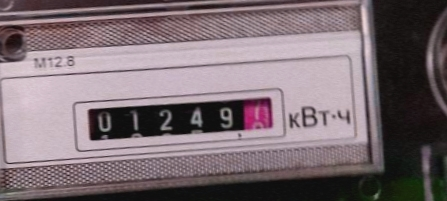0: (94, 108, 114, 135)
1: (126, 108, 142, 134)
2: (156, 108, 177, 135)
4: (188, 104, 208, 132)
7: (249, 99, 265, 124)
9: (217, 105, 237, 131)
screen: (65, 81, 301, 168)
